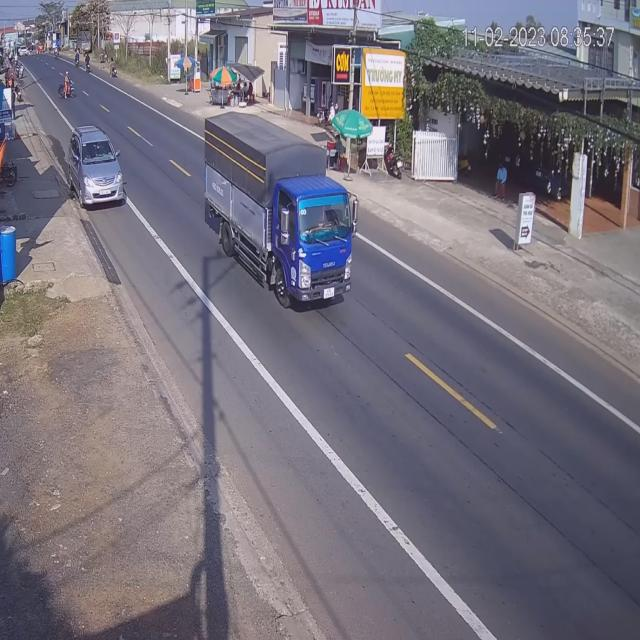car: (67, 127, 125, 210)
motorbike: (60, 74, 74, 98)
truck: (206, 107, 360, 306)
